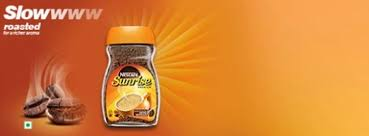nescafe-classic/gold-med: (103, 23, 162, 128)
